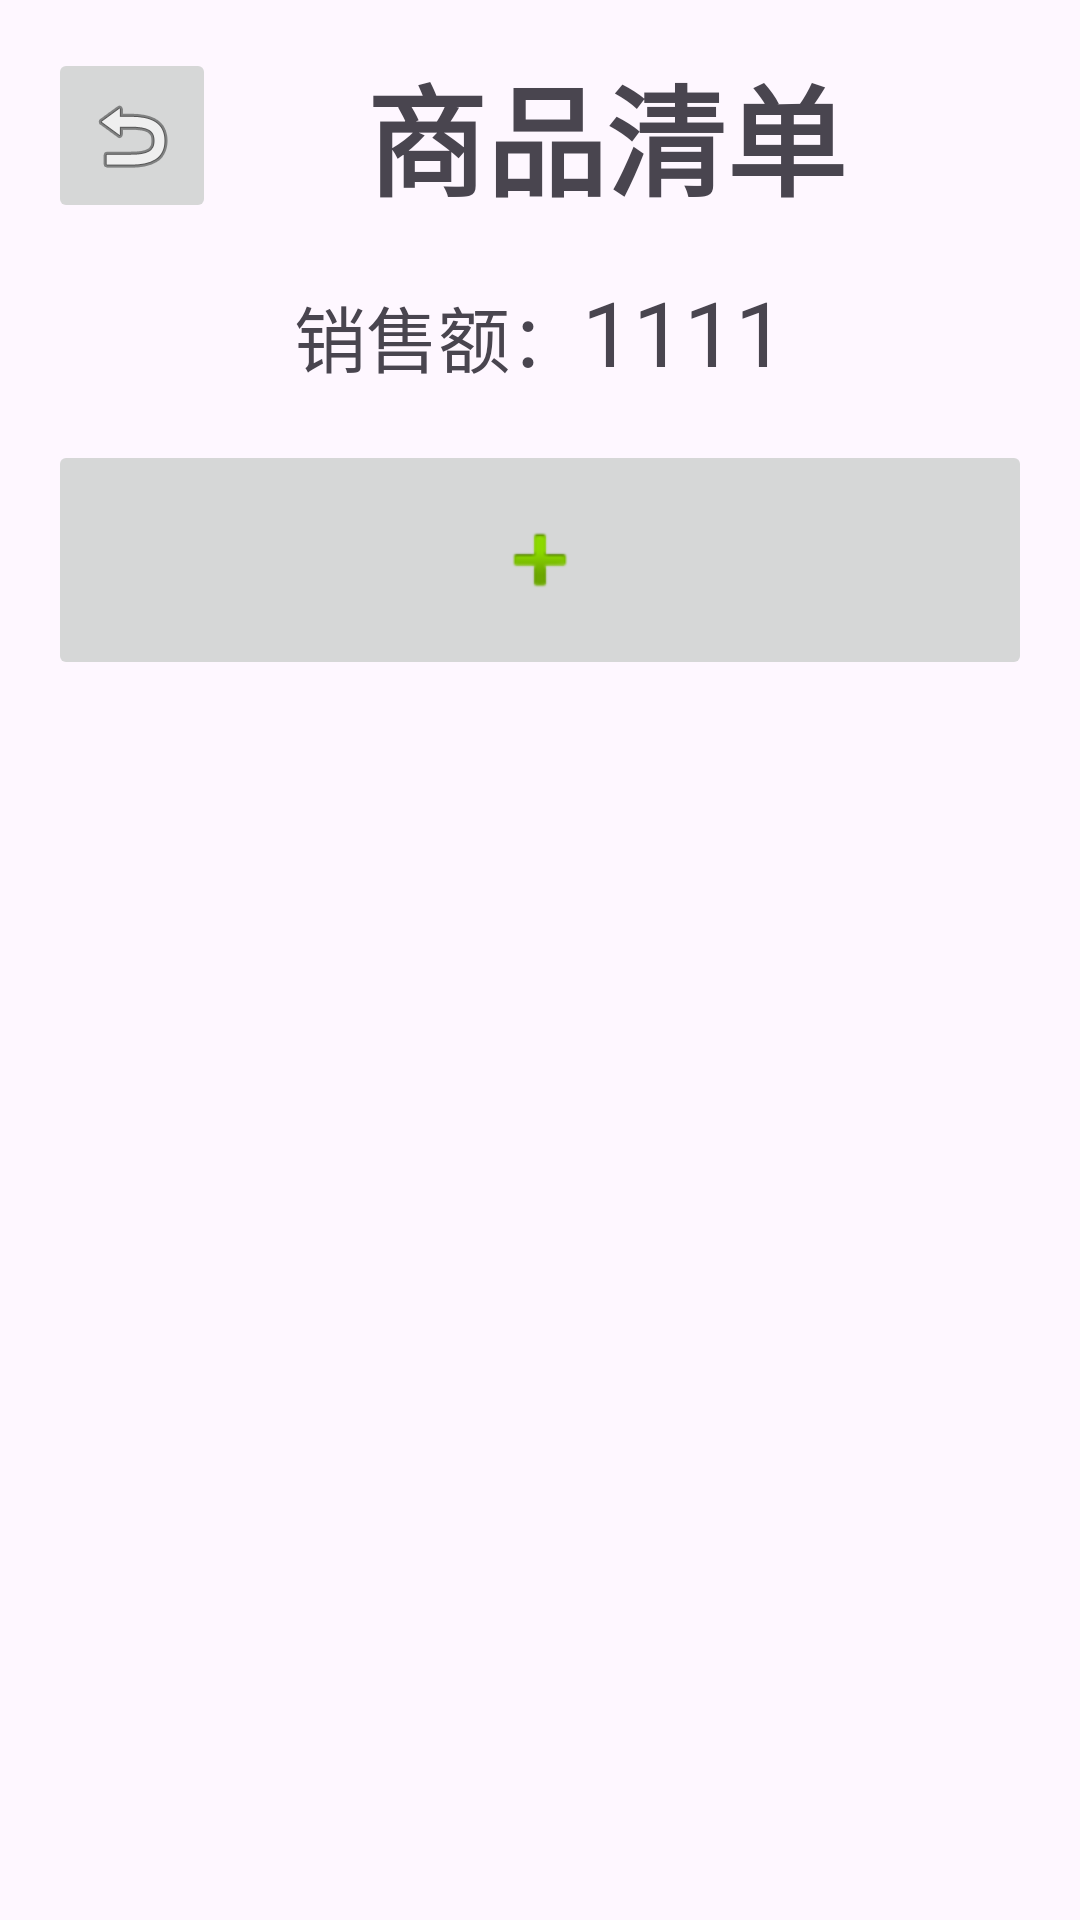

Named icons in this screenshot (1080 x 1920) and their bounding boxes, (x1, y1, x2, y2):
revert: (60, 66, 204, 205)
